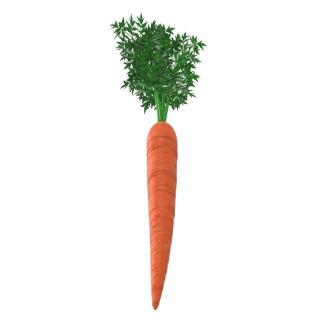carrot: (145, 120, 179, 310)
